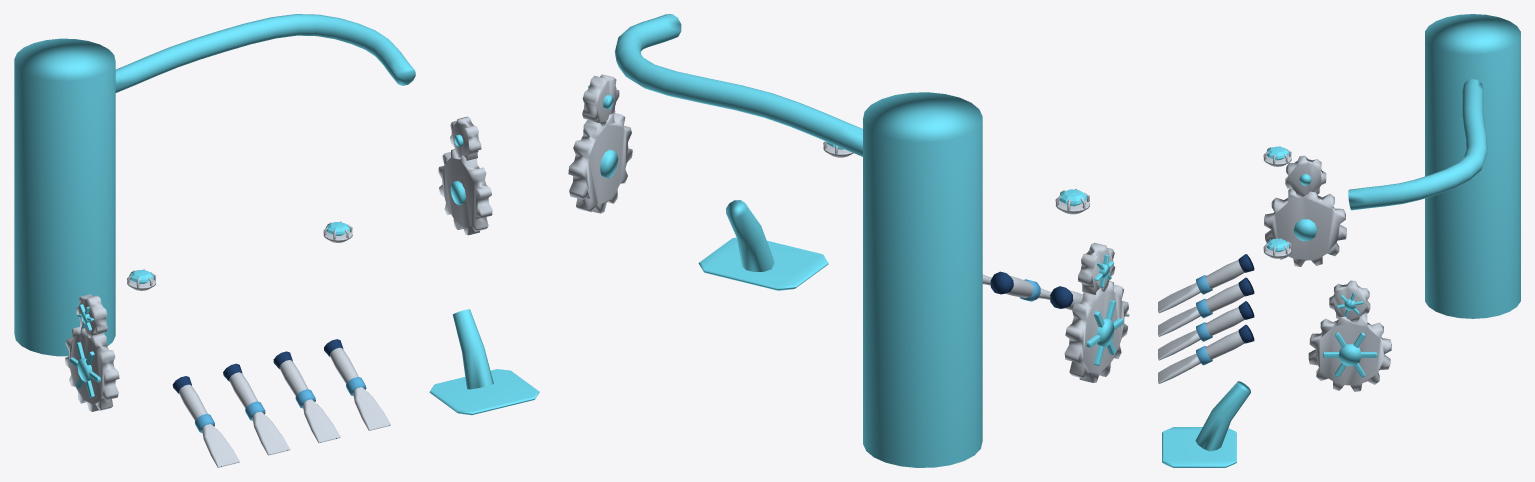
File: ChiselMill_T3_Upgrades.fbx
The picture shows the model from 3 angles, left to right: view 1: azimuth 30°, elevation 25°; view 2: azimuth 150°, elevation 25°; view 3: azimuth 270°, elevation 25°; orthographic projection. The views are drawn at different scales.
Visible parts, largest first — view 1: ChiselMillT3U5GlowWaterGlow, ChiselMillT3U1Chisels, ChiselMillT3U3Gear2, ChiselMillT3U3Gear1, ChiselMillT3U3Pinion1, ChiselMillT3U3Pinion2; view 2: ChiselMillT3U5GlowWaterGlow, ChiselMillT3U3Gear1, ChiselMillT3U3Gear2, ChiselMillT3U1Chisels, ChiselMillT3U3Pinion2, ChiselMillT3U3Pinion1; view 3: ChiselMillT3U5GlowWaterGlow, ChiselMillT3U1Chisels, ChiselMillT3U3Gear1, ChiselMillT3U3Gear2, ChiselMillT3U3Pinion2, ChiselMillT3U3Pinion1.
Boxes of the visible parts, x1,y1,x2,y2 form: ChiselMillT3U5GlowWaterGlow: (14, 14, 539, 415); ChiselMillT3U1Chisels: (172, 339, 390, 467); ChiselMillT3U3Gear2: (65, 327, 119, 411); ChiselMillT3U3Gear1: (438, 149, 492, 235); ChiselMillT3U3Pinion1: (450, 116, 481, 160); ChiselMillT3U3Pinion2: (76, 294, 107, 338); ChiselMillT3U5GlowWaterGlow: (615, 14, 982, 467); ChiselMillT3U3Gear1: (568, 113, 632, 213); ChiselMillT3U3Gear2: (1064, 281, 1128, 382); ChiselMillT3U1Chisels: (982, 271, 1129, 316); ChiselMillT3U3Pinion2: (1078, 242, 1115, 294); ChiselMillT3U3Pinion1: (582, 74, 619, 126); ChiselMillT3U5GlowWaterGlow: (1162, 14, 1520, 467); ChiselMillT3U1Chisels: (1158, 254, 1254, 383); ChiselMillT3U3Gear1: (1308, 314, 1391, 391); ChiselMillT3U3Gear2: (1264, 189, 1346, 266); ChiselMillT3U3Pinion2: (1285, 155, 1326, 197); ChiselMillT3U3Pinion1: (1329, 280, 1370, 322).
Bounding box in the file's own units: 372 × 256 × 295.
